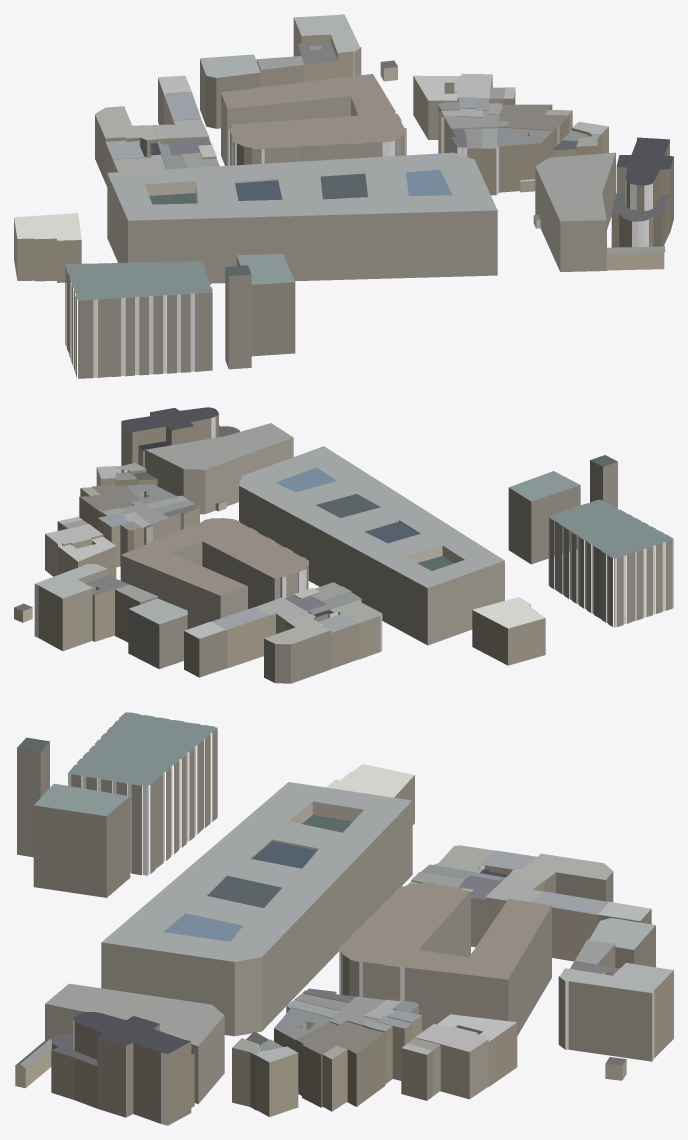
The picture shows the model from 3 angles, top to bottom: view 1: azimuth 30°, elevation 25°; view 2: azimuth 150°, elevation 25°; view 3: azimuth 270°, elevation 25°; orthographic projection. The views are drawn at different scales.
Visible parts, largest first — view 1: tuile; view 2: tuile; view 3: tuile.
Part boxes in pixels (x1,y1,x2,y2): tuile: (14,14,673,378); tuile: (14,407,673,683); tuile: (14,712,673,1125).
Size of the model in its own units: 286 by 48.44 by 234.
